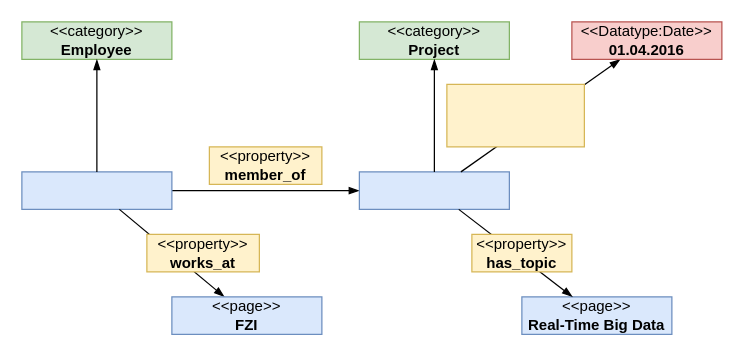
Some shapes in this 744 by 356 pixel diagram are drawn without their labels. Each missing label, with the centre of its shape:
"<<page>> BigGIS" goes at point (433, 190).
"<<page>> Matthias Frank" goes at point (96, 190).
"<<property>> (has_Type::Date) start_date" goes at point (515, 115).
